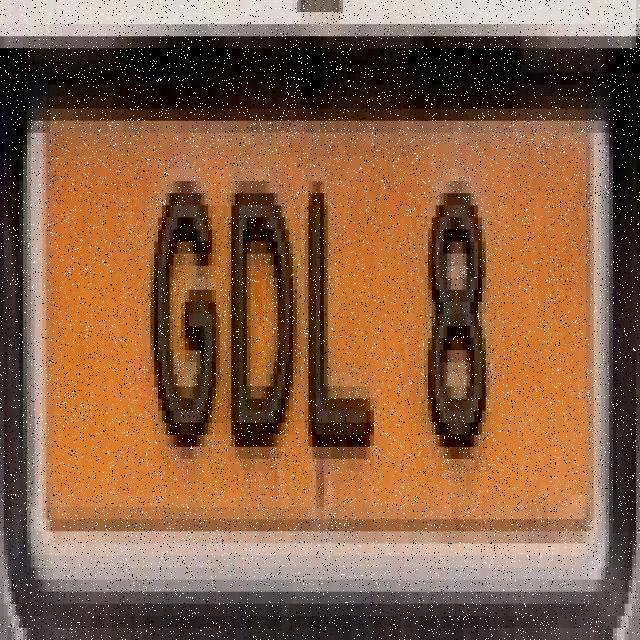LicensePlate: (28, 61, 610, 581)
